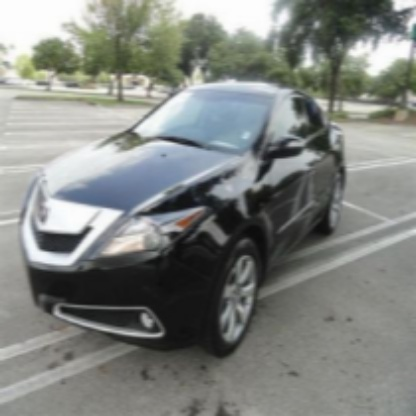Vehicle: (20, 82, 347, 358)
